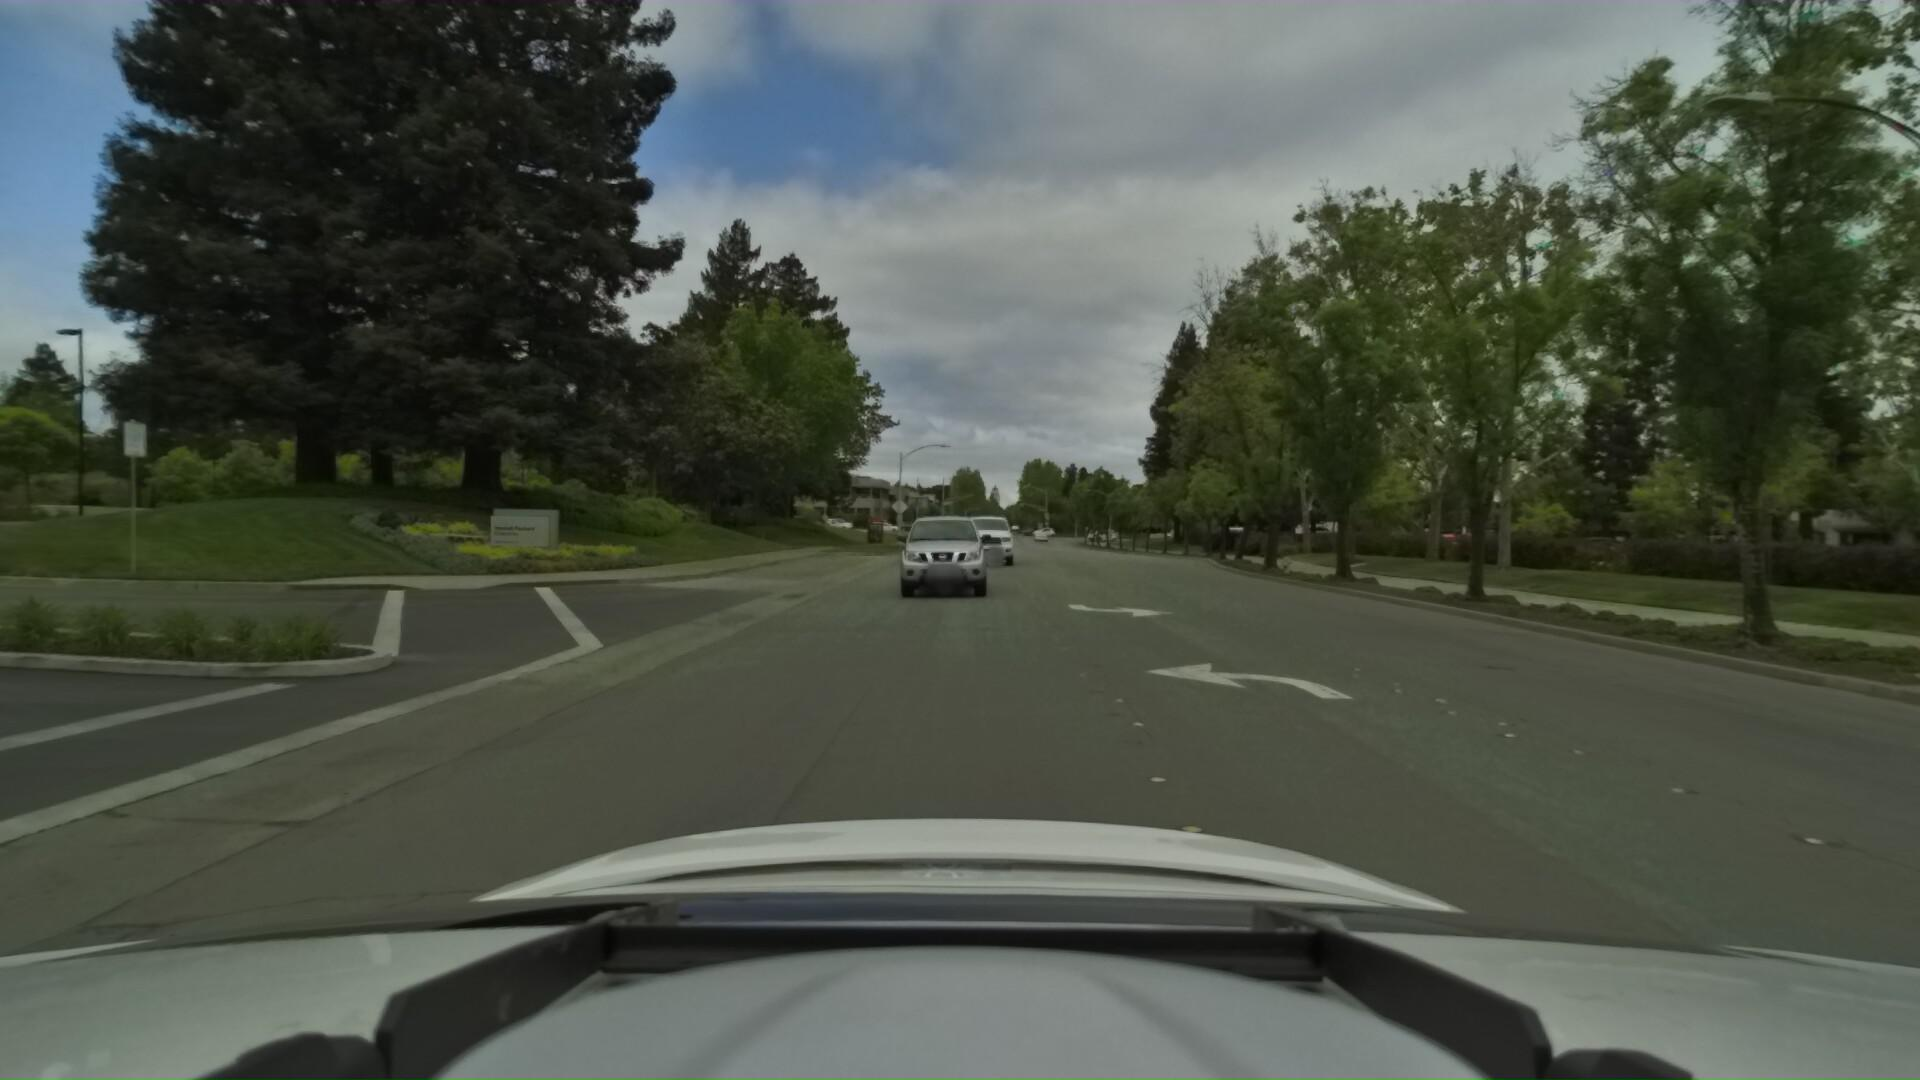car: (887, 501, 997, 607), (957, 506, 1022, 564)
